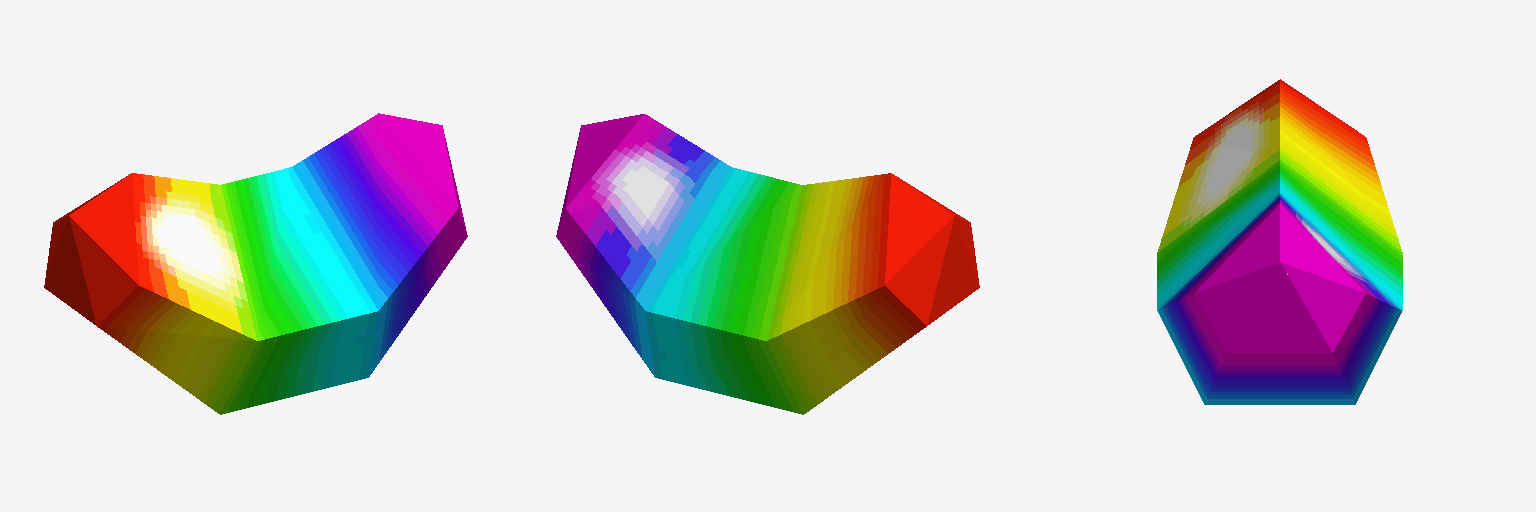
3 renders of one model, left to right at view 1: azimuth 30°, elevation 25°; view 2: azimuth 150°, elevation 25°; view 3: azimuth 270°, elevation 25°, orthographic.
Visible parts, largest first — view 1: T1L2M008_21; view 2: T1L2M008_21; view 3: T1L2M008_21.
Part boxes in pixels (x1,y1,x2,y2): T1L2M008_21: (44, 113, 467, 414); T1L2M008_21: (556, 114, 979, 414); T1L2M008_21: (1157, 79, 1402, 404).
Bounding box in the file's own units: 0.5547 × 0.3213 × 0.3154.
Materials: 1 (1 with a texture image).